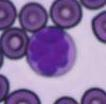M: (25, 26, 77, 77)
